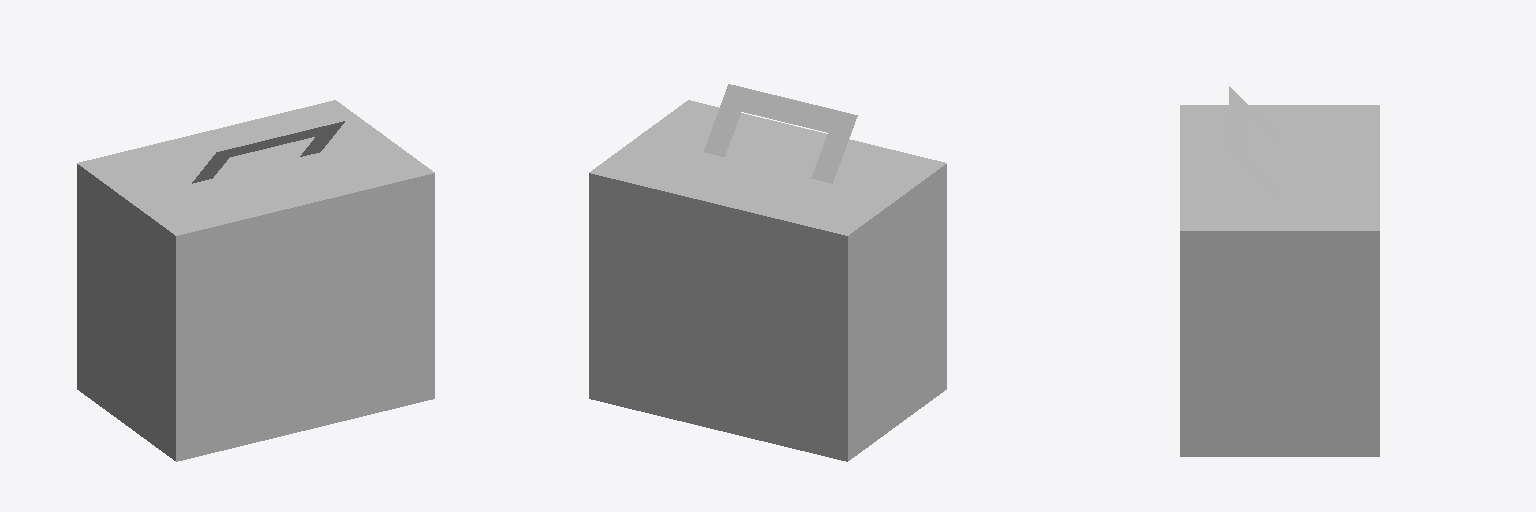
Rendered from toolbox.obj.
The picture shows the model from 3 angles: view 1: azimuth 30°, elevation 25°; view 2: azimuth 150°, elevation 25°; view 3: azimuth 270°, elevation 25°; orthographic projection.
Visible parts, largest first — view 1: cube; view 2: cube; view 3: cube.
Part boxes in pixels (x1,y1,x2,y2): cube: (77,100,434,461); cube: (589,84,946,461); cube: (1180,86,1379,456).
Size of the model in its own units: 0.75 by 0.7632 by 0.5.